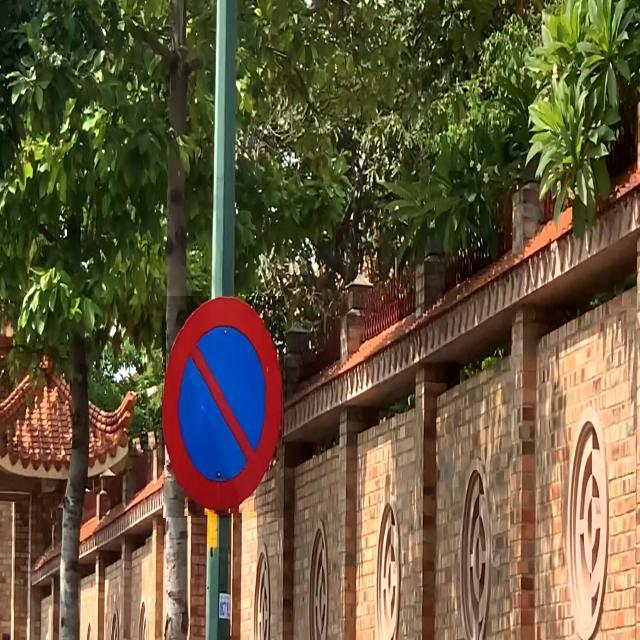P-131a: (162, 297, 284, 519)
